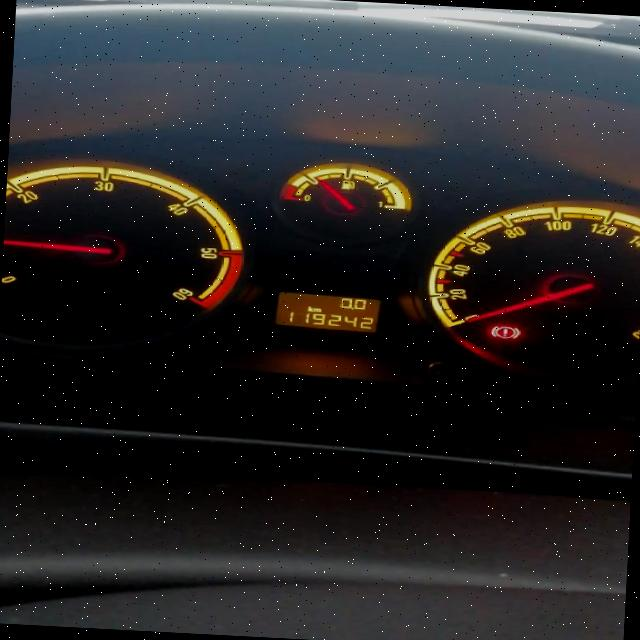odometer: (270, 290, 382, 334)
